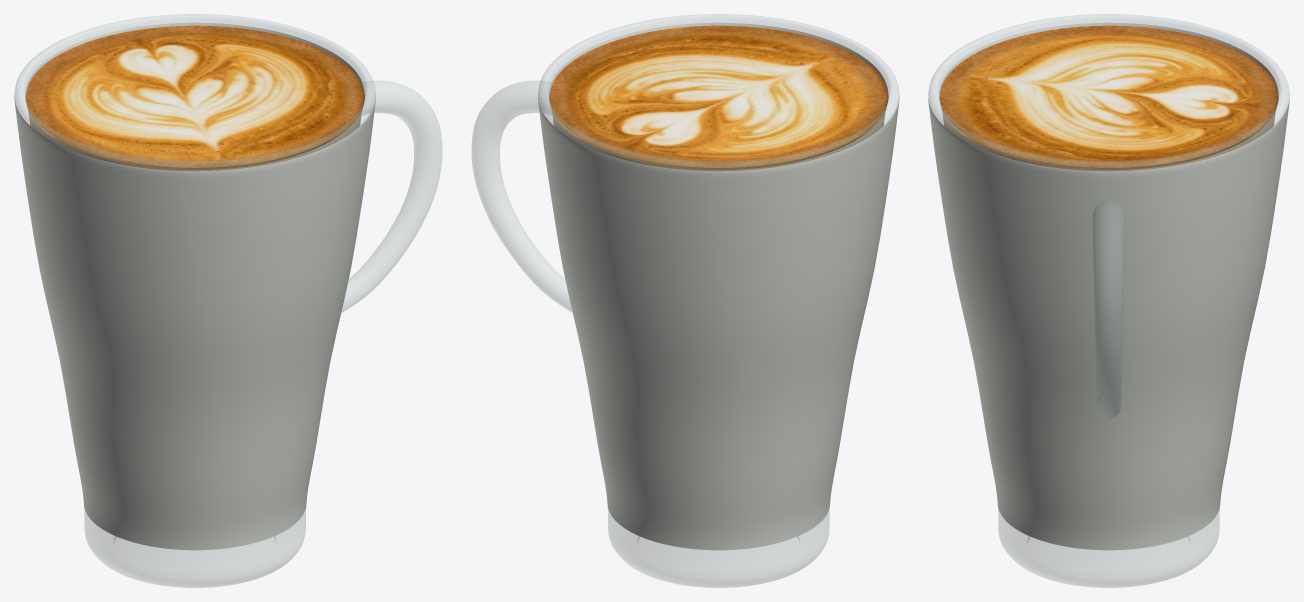
Rendered from alba-latte-macchiato.glb.
3 views of the same model, side by side, from view 1: azimuth 30°, elevation 25°; view 2: azimuth 150°, elevation 25°; view 3: azimuth 270°, elevation 25° (orthographic).
Parts seen in each view (by area): view 1: Glass • thick wall, rolled rim and solid base, Liquid surface • curved meniscus, Glass handle • polished solid grip, Beverage body • milk, espresso and foam; view 2: Glass • thick wall, rolled rim and solid base, Liquid surface • curved meniscus, Glass handle • polished solid grip, Beverage body • milk, espresso and foam; view 3: Glass • thick wall, rolled rim and solid base, Liquid surface • curved meniscus, Glass handle • polished solid grip, Beverage body • milk, espresso and foam.
Boxes of the visible parts, <box> form: Glass • thick wall, rolled rim and solid base: <box>14,14,375,587</box>; Liquid surface • curved meniscus: <box>25,25,364,168</box>; Glass handle • polished solid grip: <box>341,81,442,312</box>; Beverage body • milk, espresso and foam: <box>27,107,362,171</box>; Glass • thick wall, rolled rim and solid base: <box>538,14,899,587</box>; Liquid surface • curved meniscus: <box>549,25,888,168</box>; Glass handle • polished solid grip: <box>471,81,572,312</box>; Beverage body • milk, espresso and foam: <box>551,107,886,171</box>; Glass • thick wall, rolled rim and solid base: <box>928,14,1289,587</box>; Liquid surface • curved meniscus: <box>939,25,1278,168</box>; Glass handle • polished solid grip: <box>1092,201,1125,418</box>; Beverage body • milk, espresso and foam: <box>941,107,1276,171</box>.
Size of the model in its own units: 0.1169 by 0.1273 by 0.091.
Materials: 4 (2 with a texture image).
